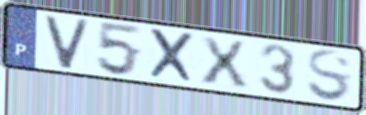3: (258, 42, 297, 97)
5: (95, 19, 145, 77)
S: (306, 48, 353, 105)
V: (43, 14, 93, 72)
X: (146, 26, 198, 86), (198, 34, 251, 90)
